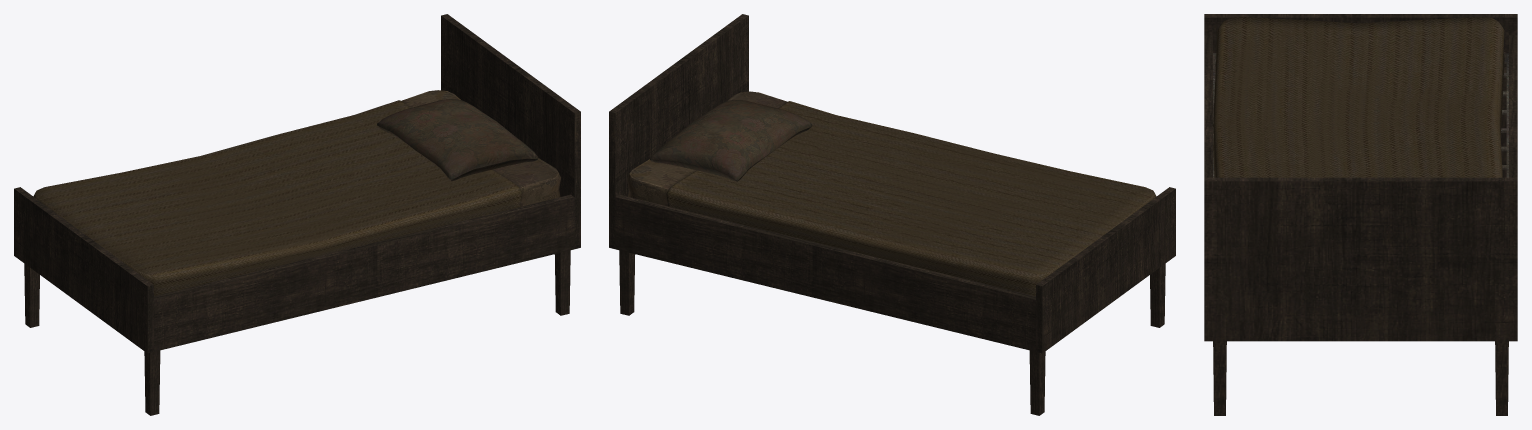
Rendered from bed_3_a_2_made.dae.
The picture shows the model from 3 angles, left to right: view 1: azimuth 30°, elevation 25°; view 2: azimuth 150°, elevation 25°; view 3: azimuth 270°, elevation 25°; orthographic projection. The views are drawn at different scales.
Parts seen in each view (by area): view 1: bed_3_a_2_made; view 2: bed_3_a_2_made; view 3: bed_3_a_2_made.
Part boxes in pixels (bbox=[...]): bed_3_a_2_made: bbox=[14, 14, 580, 415]; bed_3_a_2_made: bbox=[609, 14, 1175, 415]; bed_3_a_2_made: bbox=[1204, 14, 1517, 415].
Size of the model in its own units: 2.7 by 1.44 by 1.21.
Materials: 4 (4 with a texture image).
